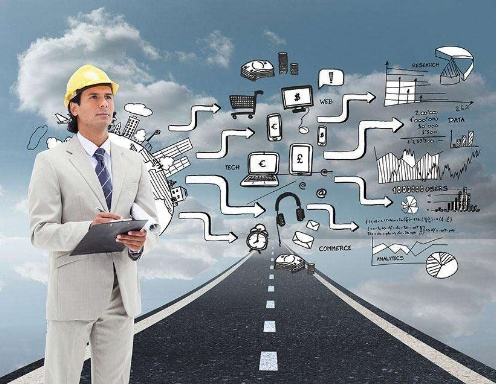yellow: (61, 64, 120, 134)
